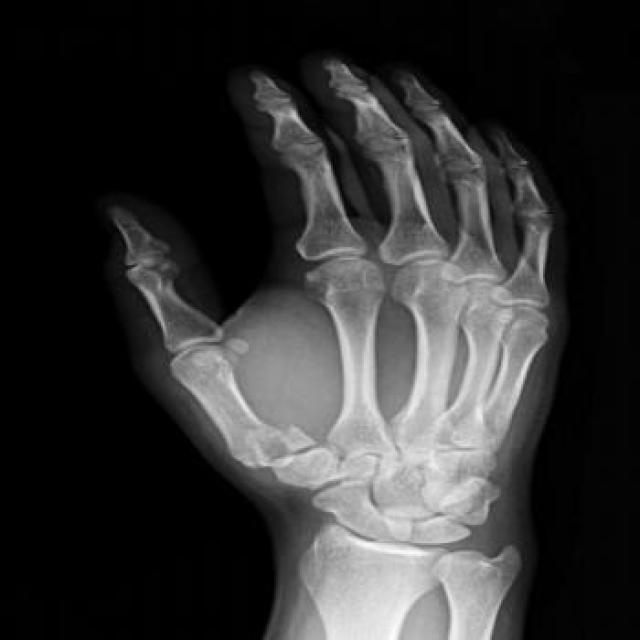Fracture: (264, 420, 328, 456)
